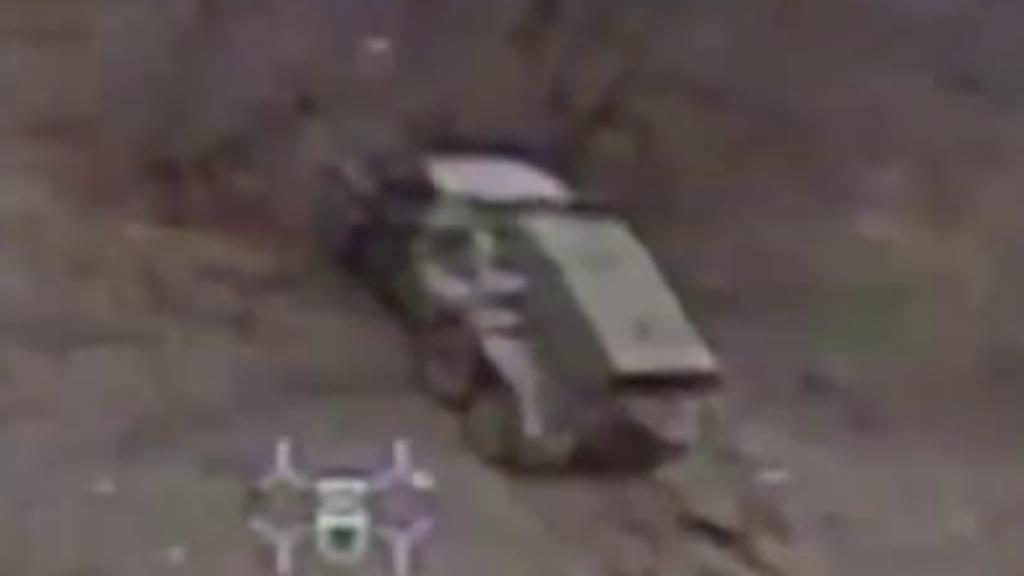MLRS: (328, 134, 718, 485)
